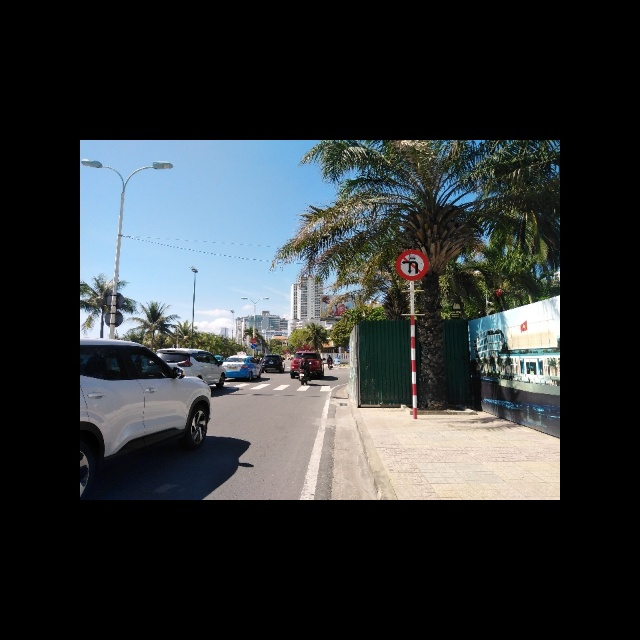Cấm xe ô tô quay đầu và rẽ trái: (397, 250, 428, 280)
